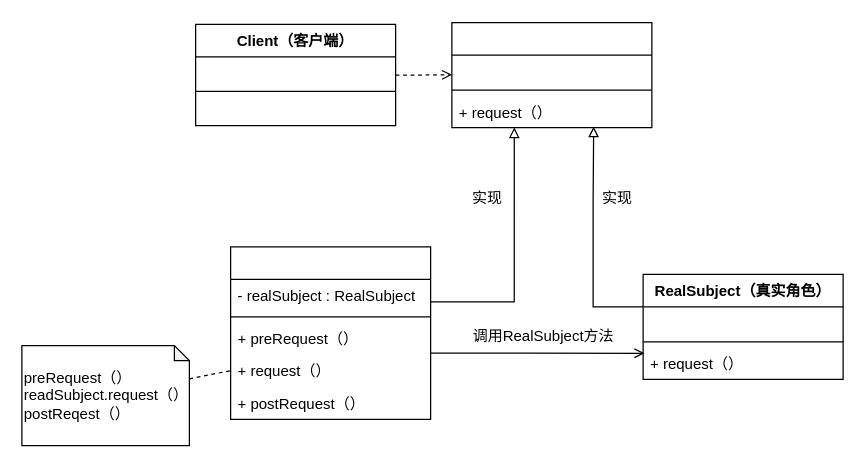
Image size: 865x468. Some labels were removed from this diagram. The box of each missing label's shape, as (x1, y1, x2, y2) in pixels:
Proxy（代理角色）: (229, 246, 431, 419)
Subject（抽象角色）: (451, 21, 652, 128)
